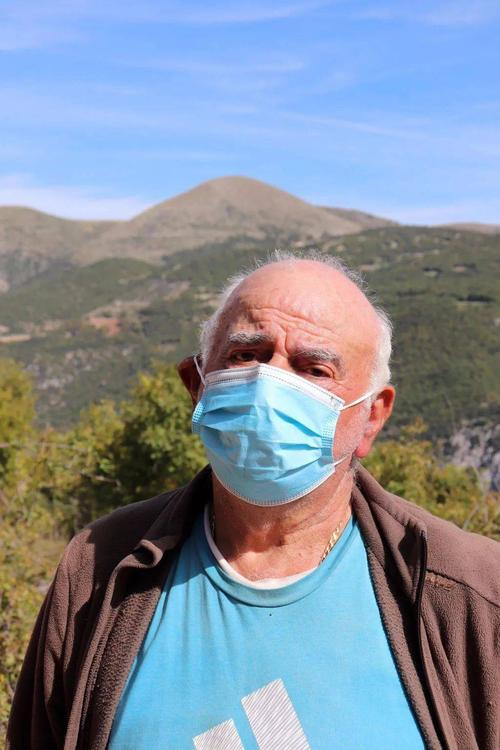mask: (187, 257, 390, 507)
